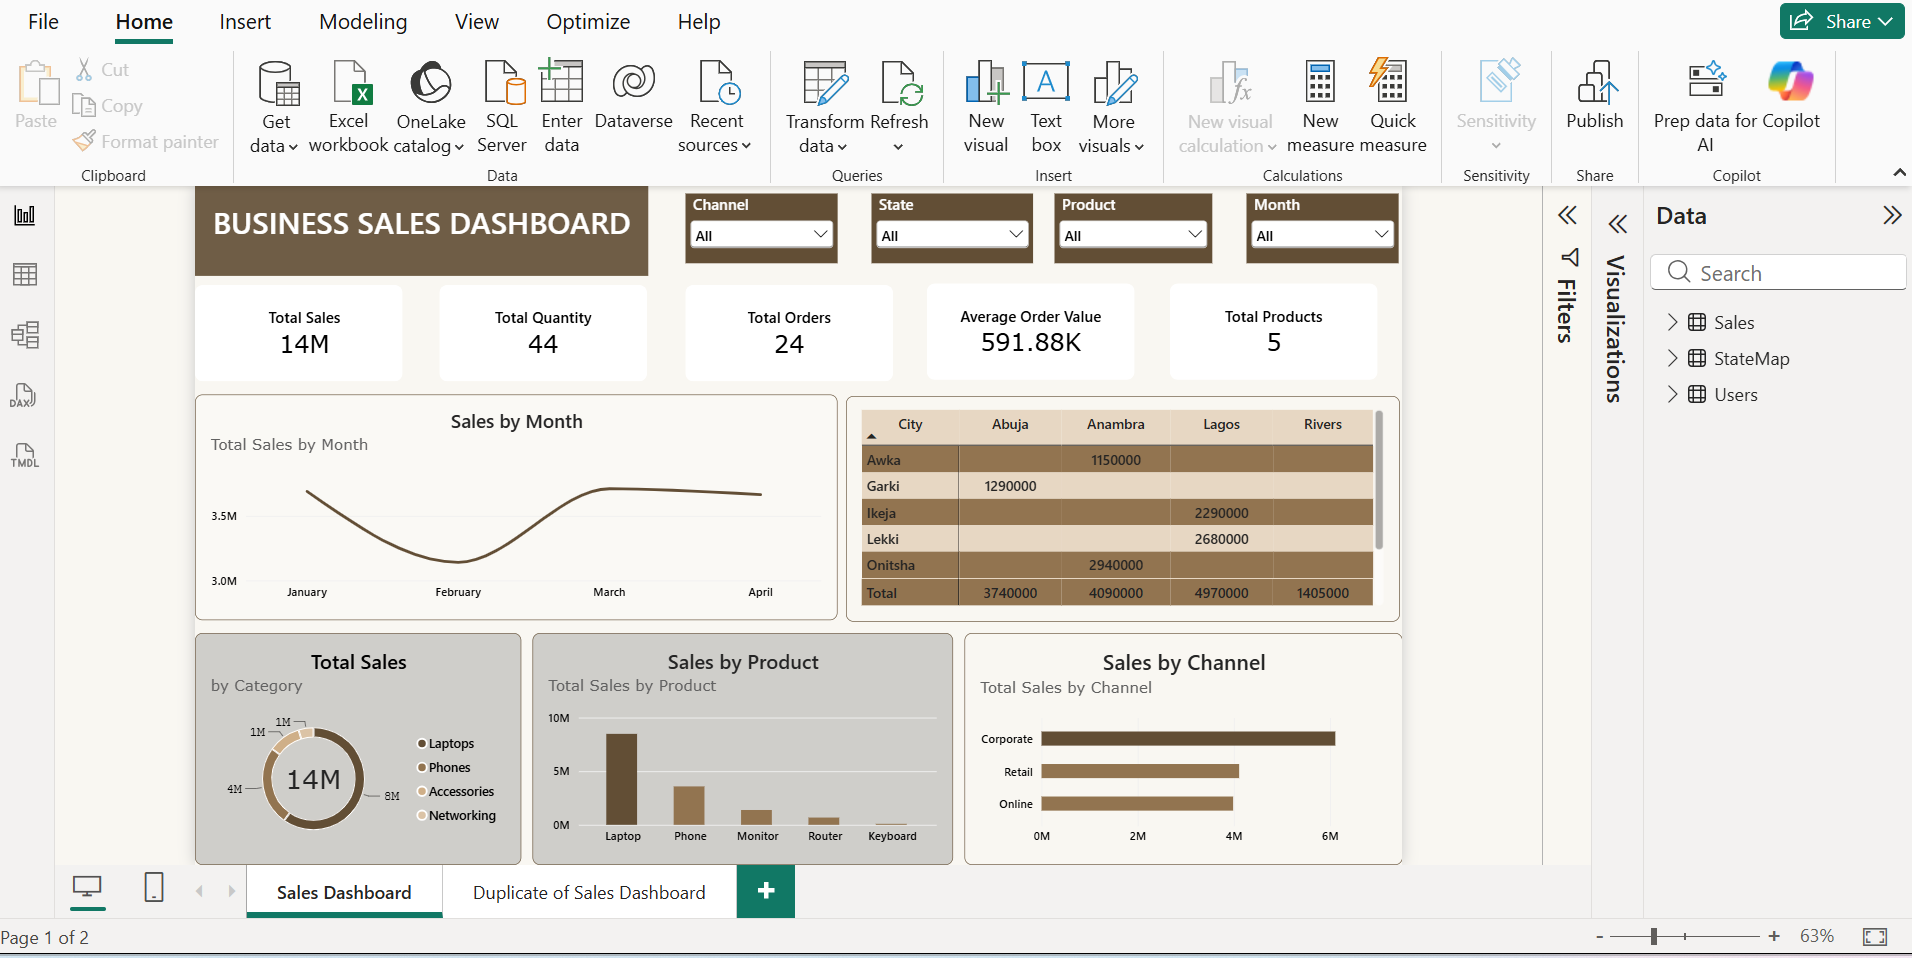

The page's visual inventory and layout, read from the dashboard file:
{"tool":"powerbi","page":{"name":"Sales Dashboard","canvas":[1280,720],"ordinal":0},"visuals":[{"type":"textbox","box":[0,0,1280,95.7],"z":0},{"type":"cardVisual","fields":{"Data":["Sales.Total Sales"]},"box":[0,104.3,220,102],"z":1000},{"type":"cardVisual","fields":{"Data":["Sales.Total Orders"]},"box":[520,104.3,220,102],"z":2000},{"type":"cardVisual","fields":{"Data":["Sales.Total Quantity"]},"box":[260,104.3,220,102],"z":3000},{"type":"cardVisual","fields":{"Data":["Sales.Average Order Value"]},"box":[776,104,220,102],"z":4000},{"type":"slicer","fields":{"Values":["Sales.State"]},"box":[717.1,8.6,171.4,74.3],"z":5000},{"type":"slicer","fields":{"Values":["Sales.Product"]},"box":[911.4,8.6,167.1,74.3],"z":6000},{"type":"slicer","fields":{"Values":["Sales.Channel"]},"box":[520,8.6,161.4,74.3],"z":7000},{"type":"slicer","fields":{"Values":["Sales.Date.Variation.Date Hierarchy.Month"]},"box":[1115.7,8.6,161.4,74.3],"z":8000},{"type":"lineChart","title":"Sales by Month","fields":{"Category":["Sales.Date.Variation.Date Hierarchy.Month"],"Y":["Sales.Total Sales"]},"box":[0,221.6,681.3,239.5],"z":9000},{"type":"columnChart","title":"Sales by Product","fields":{"Category":["Sales.Product"],"Y":["Sales.Total Sales"]},"box":[357.1,474.3,445.7,245.7],"z":10000},{"type":"barChart","title":"Sales by Channel","fields":{"Category":["Sales.Channel"],"Y":["Sales.Total Sales"]},"box":[815.6,474.2,464.9,245.8],"z":11000},{"type":"donutChart","fields":{"Category":["Sales.Category"],"Y":["Sales.Total Sales"]},"box":[0,474.3,346,245.7],"z":12000},{"type":"cardVisual","fields":{"Data":["Sales.Total Products","Sales.Total Products"]},"box":[1034,104,220,102],"z":13000},{"type":"pivotTable","fields":{"Columns":["Sales.State"],"Rows":["Sales.City"],"Values":["Sales.Total Sales"]},"box":[690,222,587.2,239.1],"z":14000},{"type":"textbox","box":[0,0,480.9,95.6],"z":15000}]}

Visuals, with their boxes on the page's 1280x720 design canvas (x1, y1, x2, y2). These are canvas units, not pixel positions in the 1912x958 screenshot, which may show the page scaled, cropped or inside an application window:
textbox: rect(0, 0, 1280, 96)
cardVisual - Sales.Total Sales: rect(0, 104, 220, 206)
cardVisual - Sales.Total Orders: rect(520, 104, 740, 206)
cardVisual - Sales.Total Quantity: rect(260, 104, 480, 206)
cardVisual - Sales.Average Order Value: rect(776, 104, 996, 206)
slicer - Sales.State: rect(717, 9, 888, 83)
slicer - Sales.Product: rect(911, 9, 1078, 83)
slicer - Sales.Channel: rect(520, 9, 681, 83)
slicer - Sales.Date.Variation.Date Hierarchy.Month: rect(1116, 9, 1277, 83)
"Sales by Month" lineChart: rect(0, 222, 681, 461)
"Sales by Product" columnChart: rect(357, 474, 803, 720)
"Sales by Channel" barChart: rect(816, 474, 1280, 720)
donutChart - Sales.Category x Sales.Total Sales: rect(0, 474, 346, 720)
cardVisual - Sales.Total Products x Sales.Total Products: rect(1034, 104, 1254, 206)
pivotTable - Sales.State x Sales.City: rect(690, 222, 1277, 461)
textbox: rect(0, 0, 481, 96)
